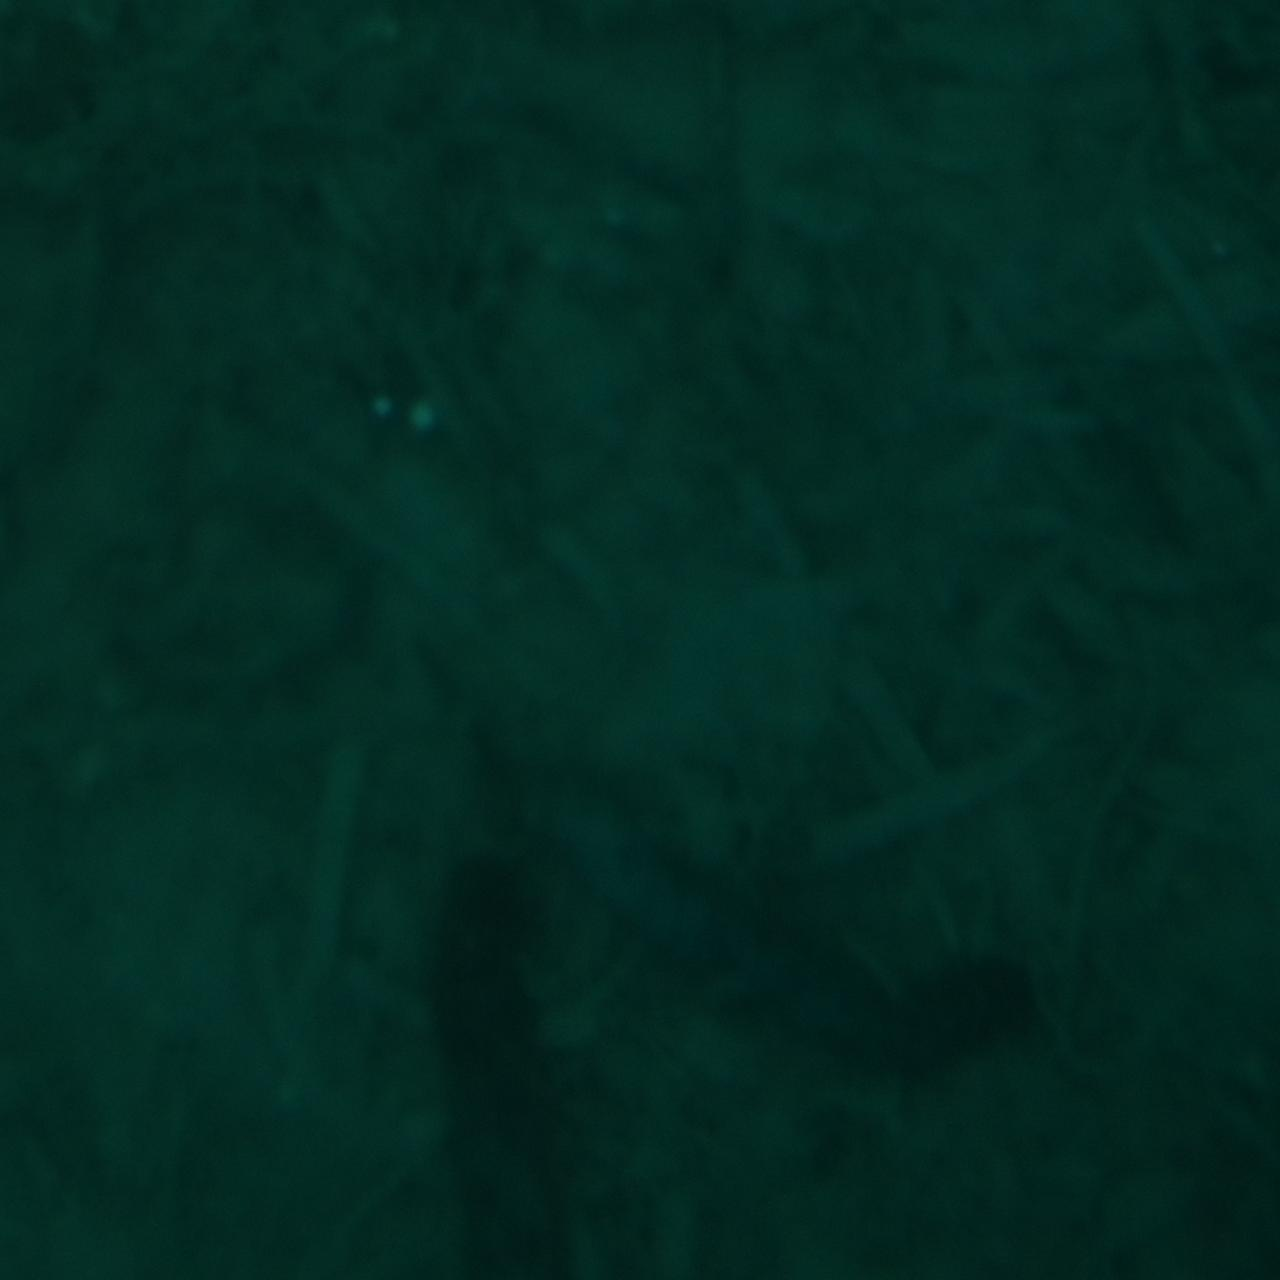Holothuria tubulosa: (511, 747, 1077, 1121), (418, 760, 556, 1278)
